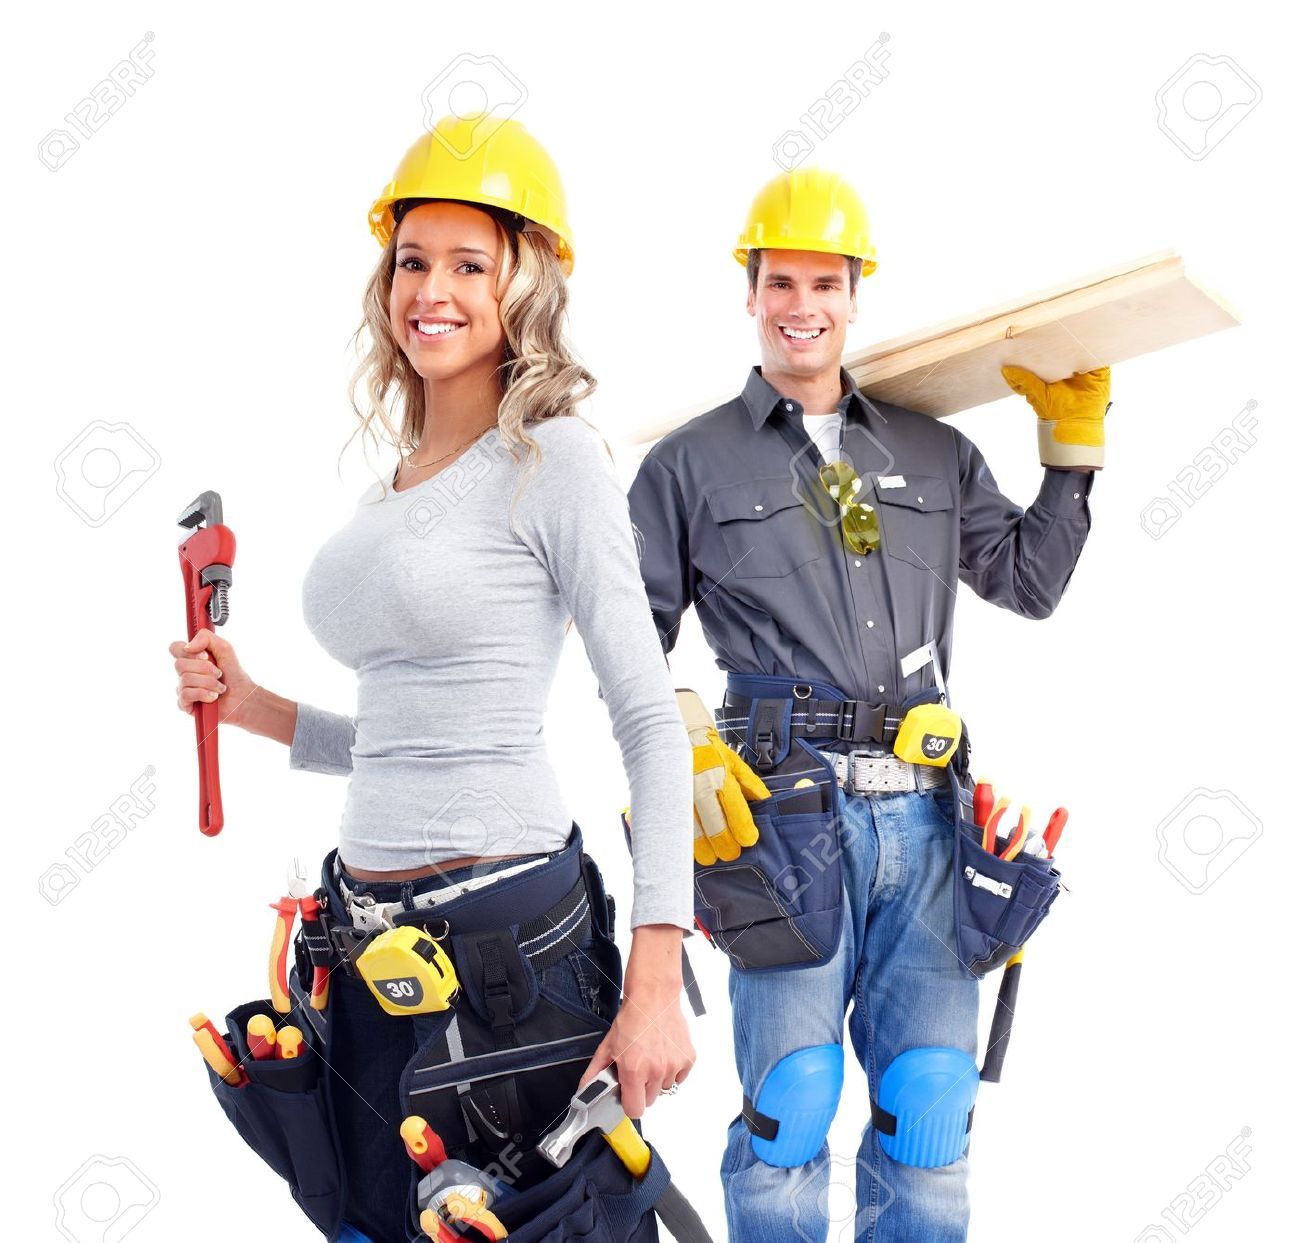Person_wearing_helmet: (348, 89, 598, 278), (720, 157, 899, 298)
